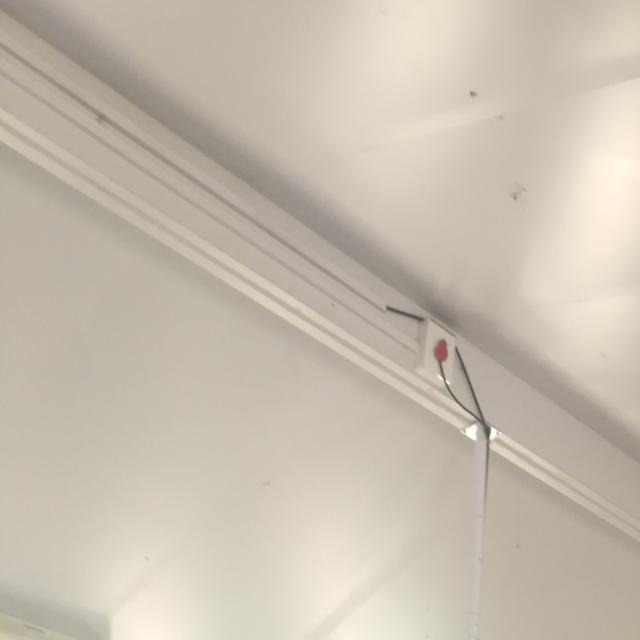fluorescent tube: (437, 0, 640, 371)
